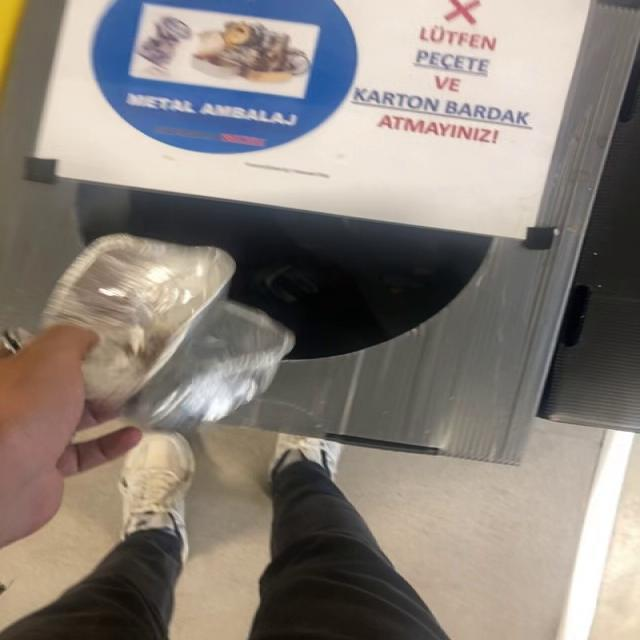Metal: (41, 234, 295, 430)
